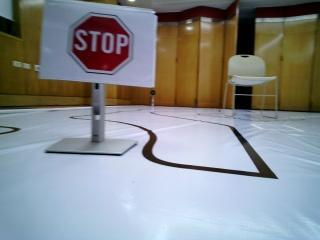stop: (63, 6, 147, 79)
